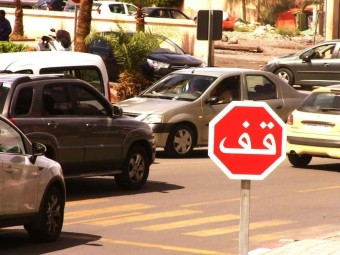SS: (208, 102, 285, 181)
